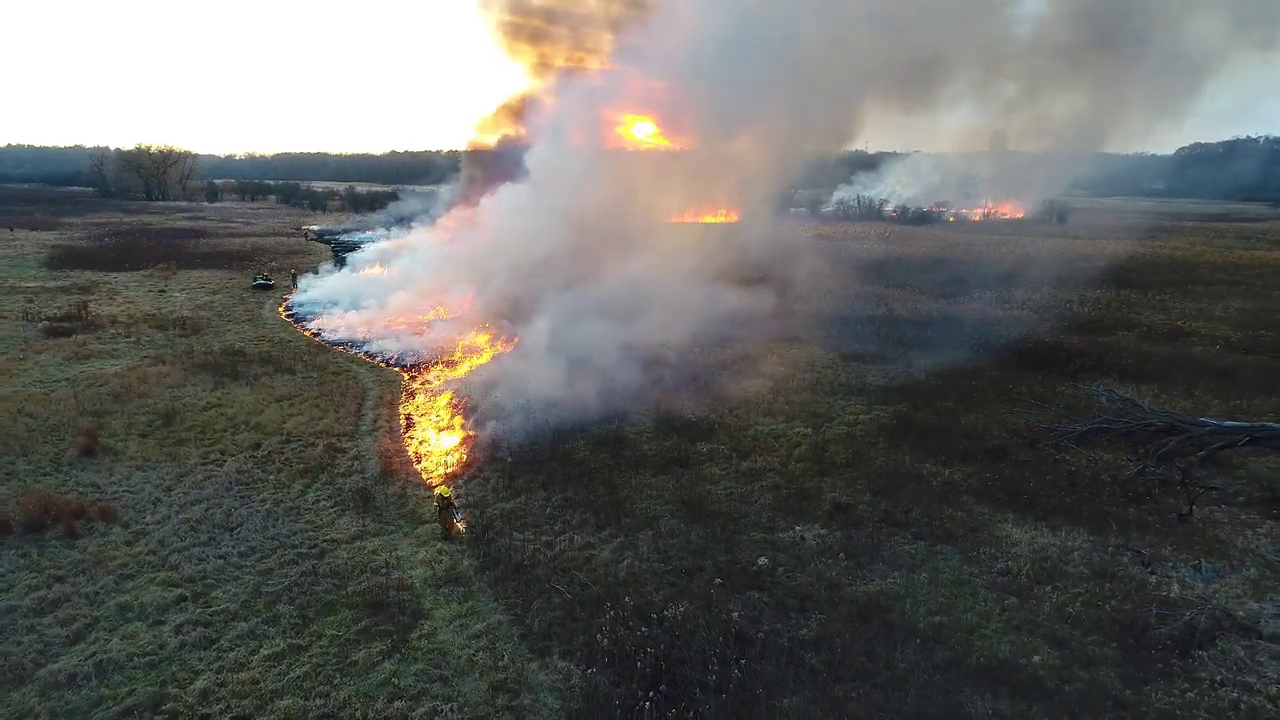forest_fire: (281, 303, 517, 486), (957, 203, 1024, 221), (669, 208, 740, 223)
